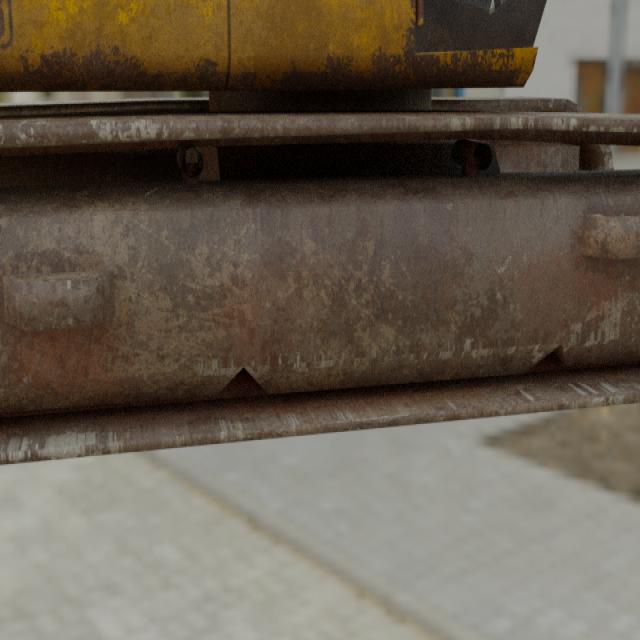excavator: (0, 0, 640, 467)
